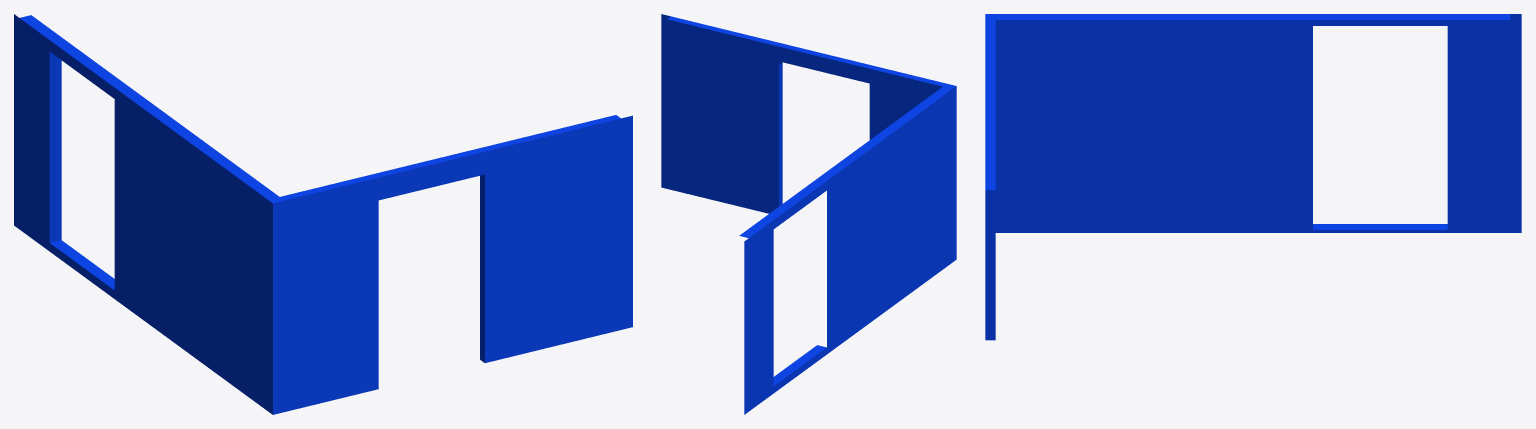
The model's file is m_RoomHalfClose.FBX.
3 renders of one model, left to right at view 1: azimuth 30°, elevation 25°; view 2: azimuth 150°, elevation 25°; view 3: azimuth 270°, elevation 25°, orthographic. The views are drawn at different scales.
Visible parts, largest first — view 1: Object002; view 2: Object002; view 3: Object002.
Part boxes in pixels (x1,y1,x2,y2): Object002: [14, 14, 632, 414]; Object002: [661, 14, 956, 414]; Object002: [985, 14, 1521, 340].
Bounding box in the file's own units: 227 × 283 × 128.
